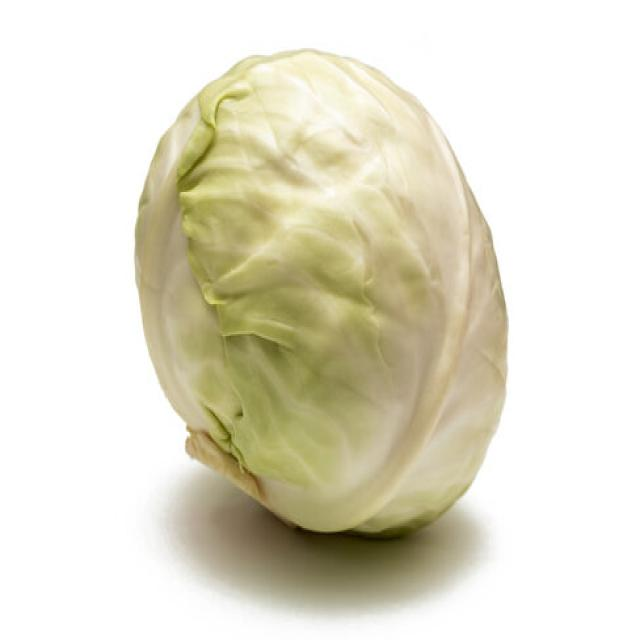Cabbage: (132, 46, 509, 539)
